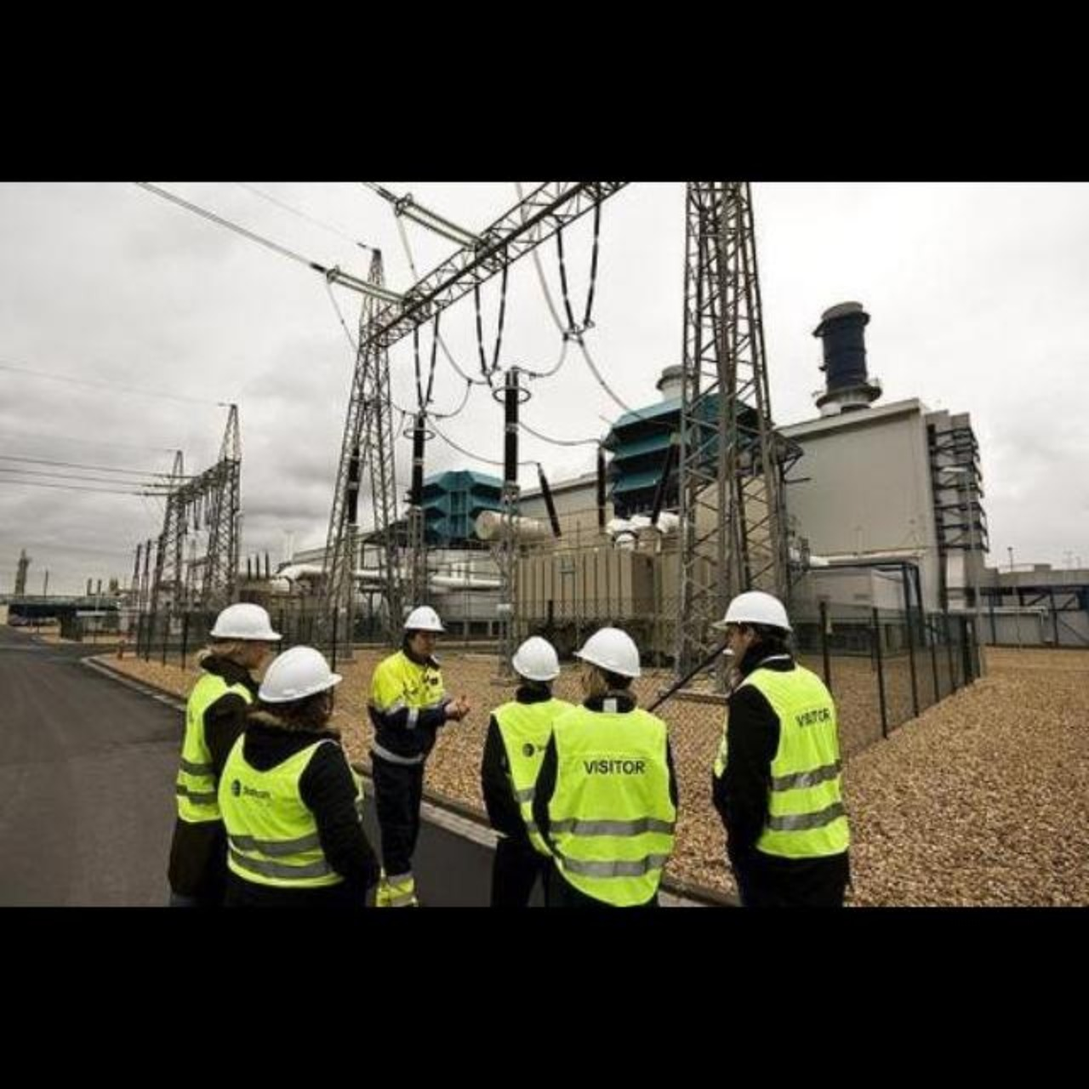helmet: (254, 644, 345, 707), (574, 624, 644, 680), (208, 601, 282, 645), (713, 590, 791, 631), (515, 634, 561, 687), (405, 602, 446, 630)
person: (710, 592, 856, 905), (214, 644, 378, 908), (533, 624, 679, 907), (164, 600, 278, 904), (367, 601, 470, 907), (484, 631, 578, 907)
vest: (545, 703, 673, 907), (719, 664, 853, 854), (217, 729, 362, 891), (492, 698, 567, 854), (177, 671, 252, 826), (368, 651, 442, 765)
